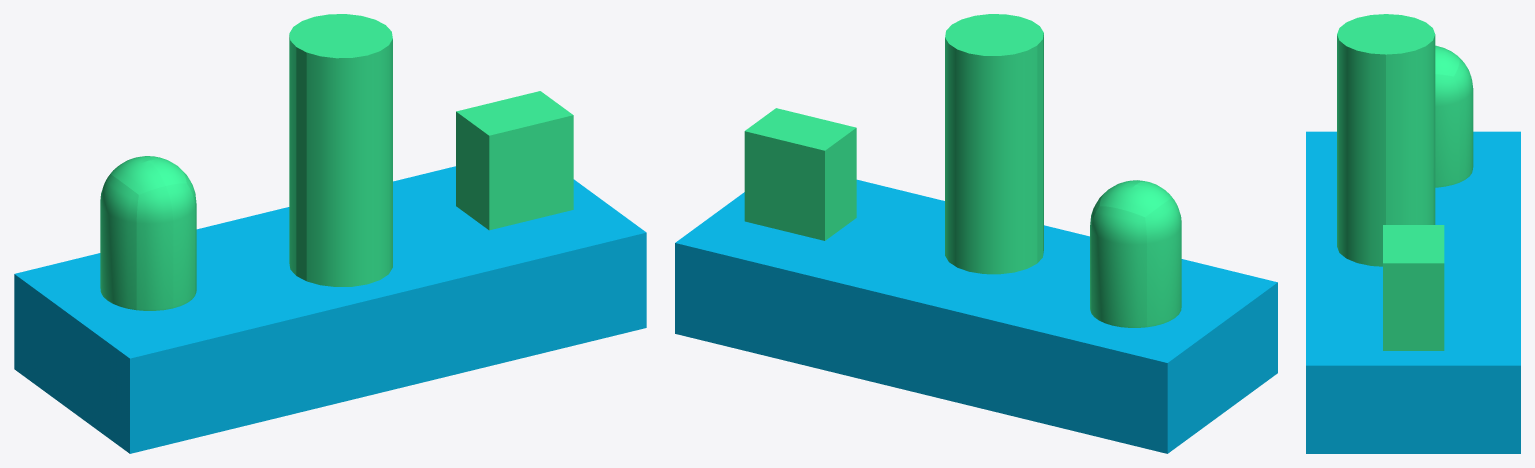
File: environment2.dae
3 renders of one model, left to right at view 1: azimuth 30°, elevation 25°; view 2: azimuth 150°, elevation 25°; view 3: azimuth 270°, elevation 25°, orthographic. The views are drawn at different scales.
Parts seen in each view (by area): view 1: Environment; view 2: Environment; view 3: Environment.
Boxes of the visible parts, x1,y1,x2,y2 form: Environment: (14, 14, 646, 453); Environment: (675, 14, 1277, 453); Environment: (1306, 14, 1520, 453).
Bounding box in the file's own units: 0.567 × 0.22 × 0.3401.
